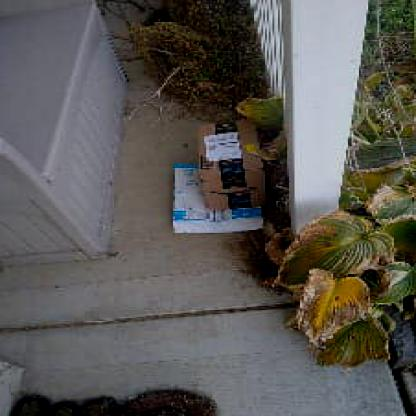box: (195, 117, 268, 210)
plastic_bag: (170, 161, 267, 236)
